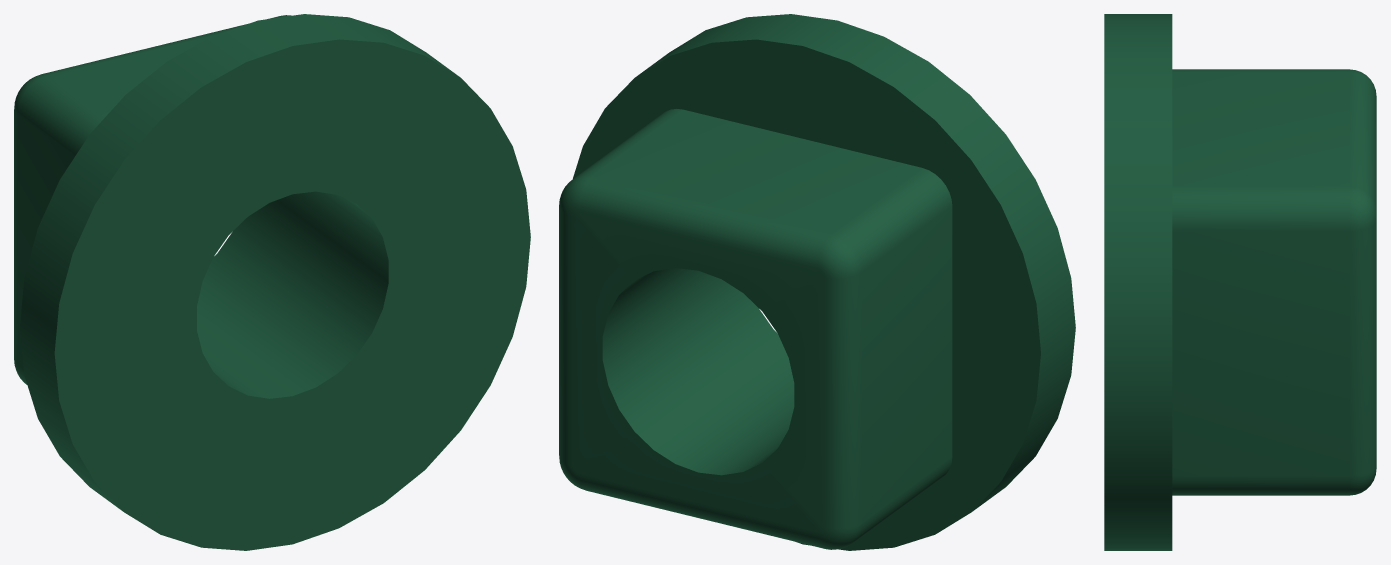
File: plastic-shaft-inserts.glb
3 views of the same model, side by side, from view 1: azimuth 30°, elevation 25°; view 2: azimuth 150°, elevation 25°; view 3: azimuth 270°, elevation 25° (orthographic). The views are drawn at different scales.
Visible parts, largest first — view 1: 276-2250-006 Rev2; view 2: 276-2250-006 Rev2; view 3: 276-2250-006 Rev2.
Part boxes in pixels (x1,y1,x2,y2): 276-2250-006 Rev2: (14, 14, 530, 550); 276-2250-006 Rev2: (559, 14, 1075, 550); 276-2250-006 Rev2: (1104, 14, 1376, 550).
Bounding box in the file's own units: 0.01 × 0.01 × 0.00508.
